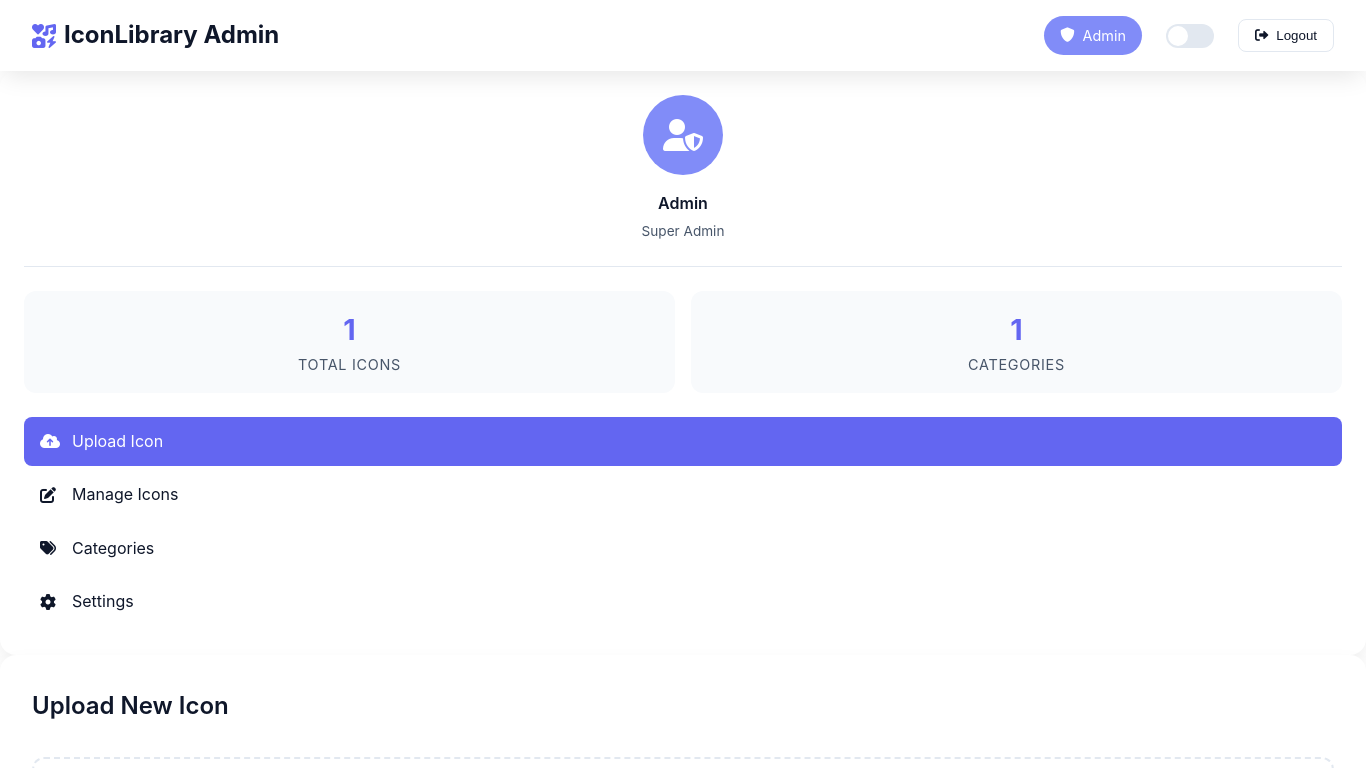
Test: AdminPanel category management › validates empty category name on add
What coordinates should you click on to do the following:
click the 2nd text "Categories"
I would click on:
 (113, 548)
Its box is x1=72 y1=536 x2=154 y2=561.
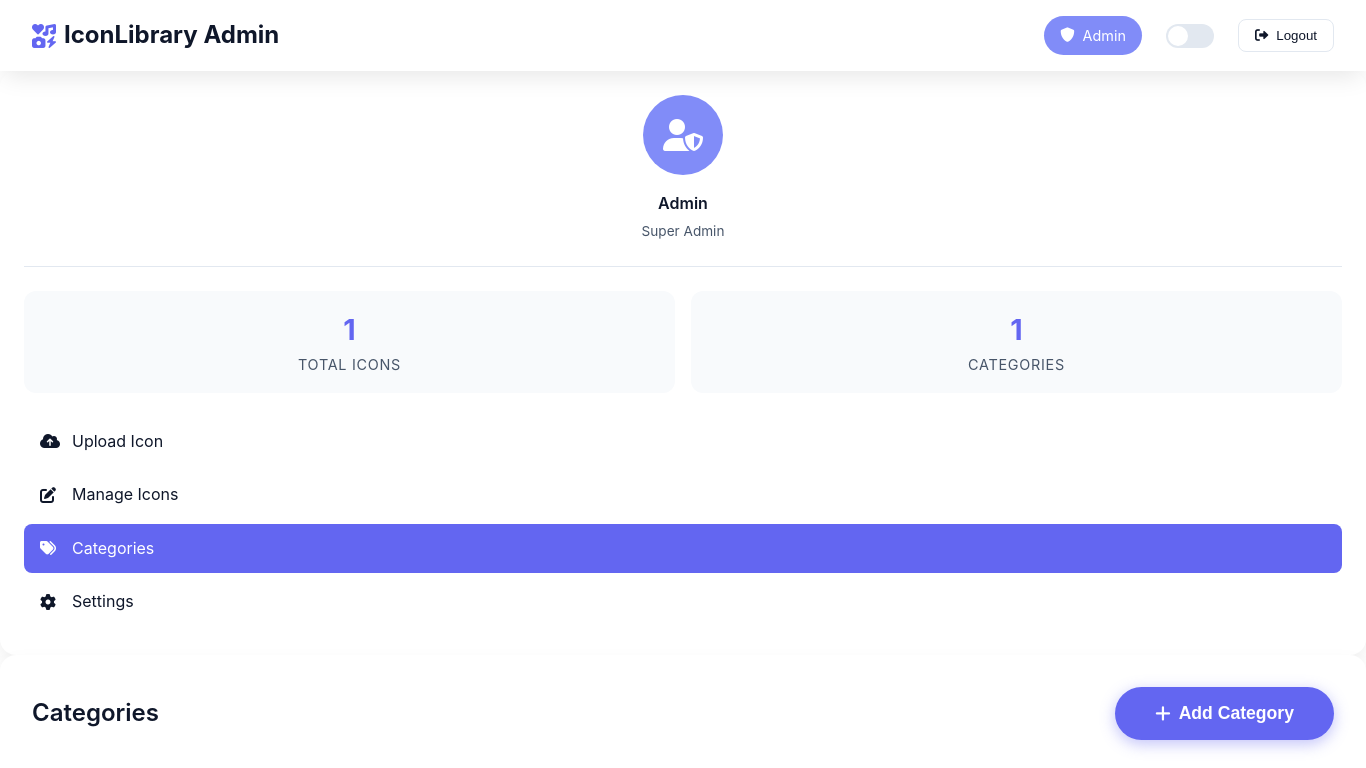
What coordinates should you click on to do the following:
click the button "Add Category"
I would click on:
 (1225, 713)
Its box is x1=1115 y1=687 x2=1334 y2=740.
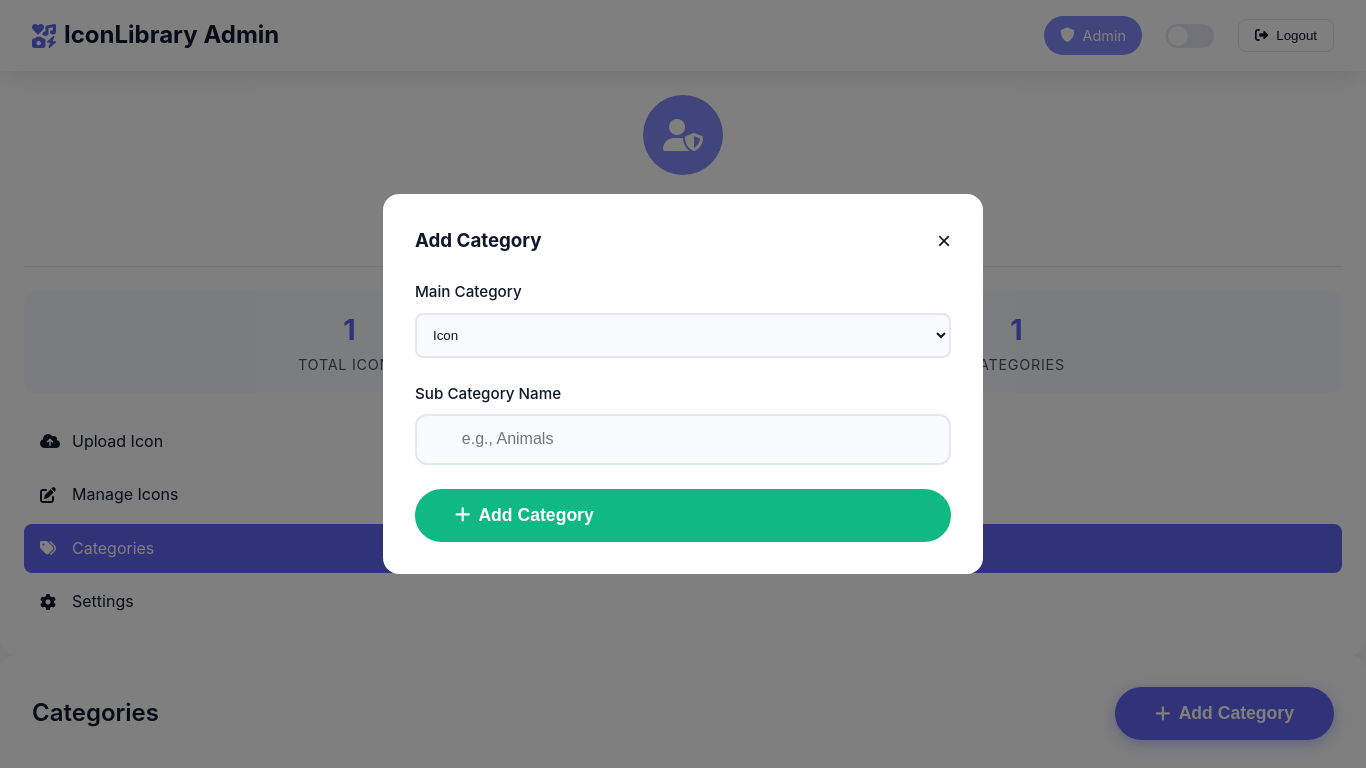
What coordinates should you click on to do the following:
click the button with class "btn-success"
I would click on:
 (536, 515)
Its box is x1=415 y1=489 x2=951 y2=542.
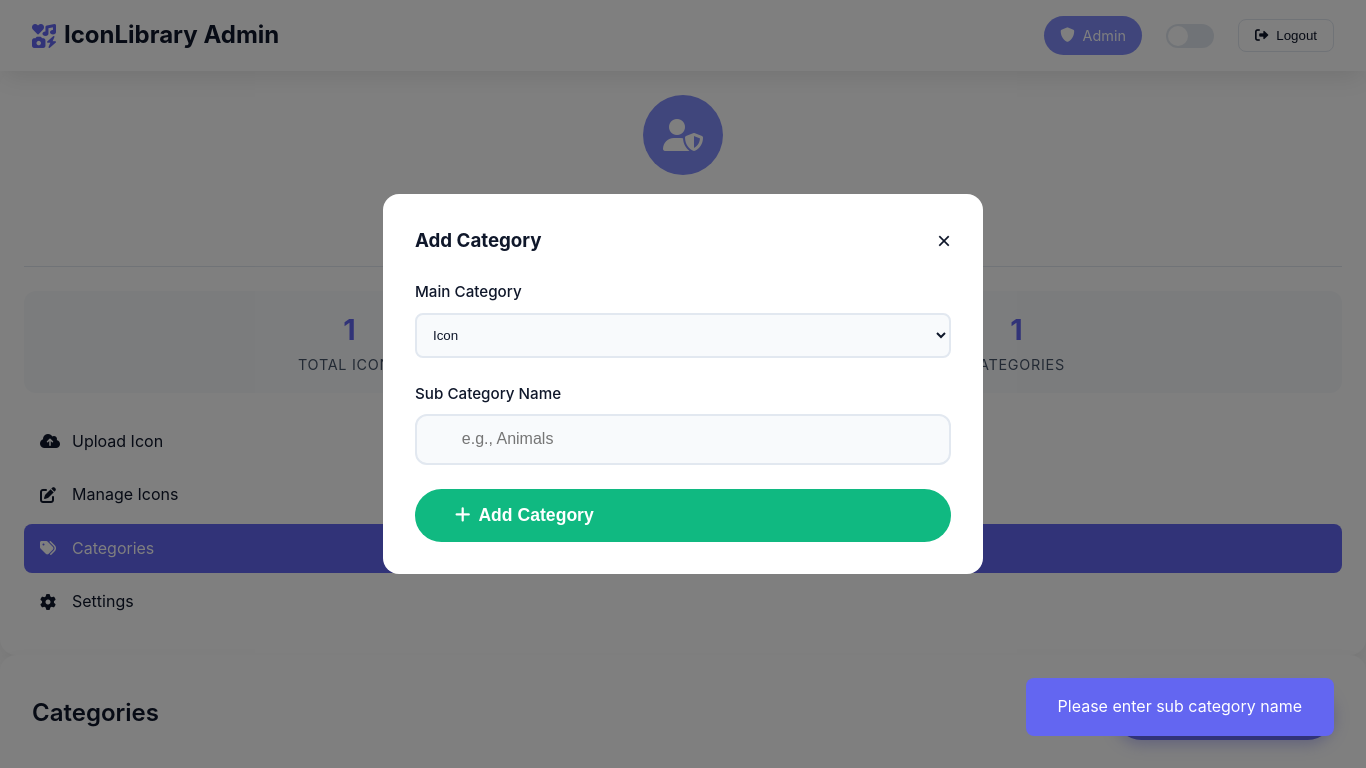
Now the text "Please enter sub category name" is shown, box x1=1026 y1=678 x2=1334 y2=736
